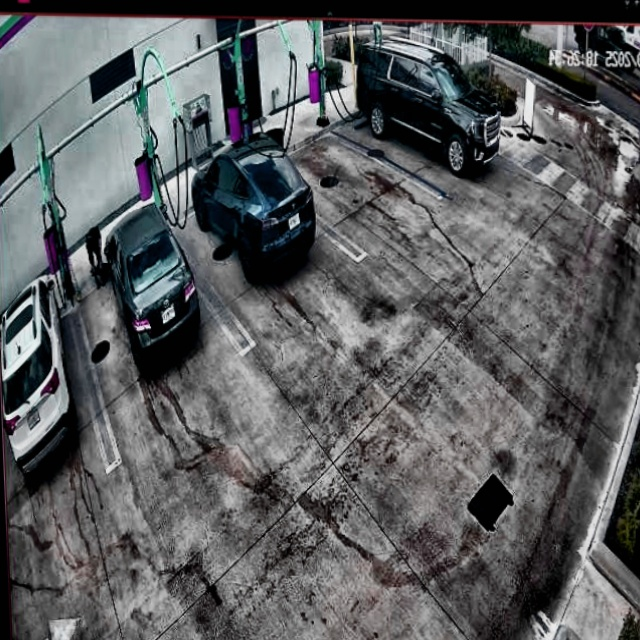Car: (357, 46, 502, 175), (191, 129, 315, 278), (103, 200, 201, 362)
